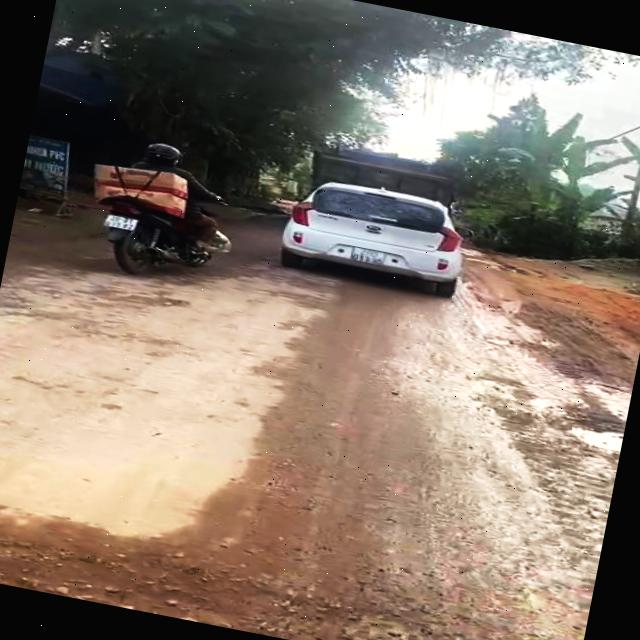pothole: (0, 517, 450, 640), (544, 400, 628, 462)
